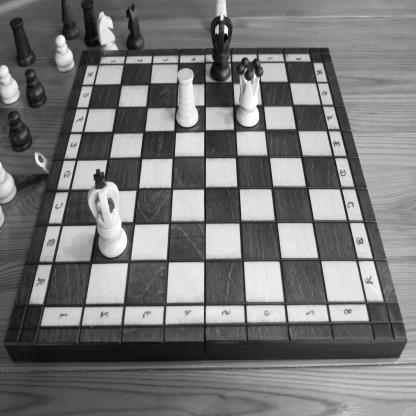black-bishop: (60, 0, 81, 41)
black-king: (210, 1, 233, 83)
black-knight: (125, 2, 145, 51)
black-pawn: (8, 110, 32, 152), (24, 68, 47, 109)
black-rook: (9, 16, 36, 68), (80, 0, 101, 48)
white-king: (87, 168, 129, 260)
white-knight: (96, 11, 119, 52)
white-pawn: (54, 33, 75, 73), (0, 161, 18, 205), (1, 64, 20, 105)
white-queen: (235, 56, 264, 128)
white-rook: (176, 67, 199, 129), (212, 0, 230, 38)
